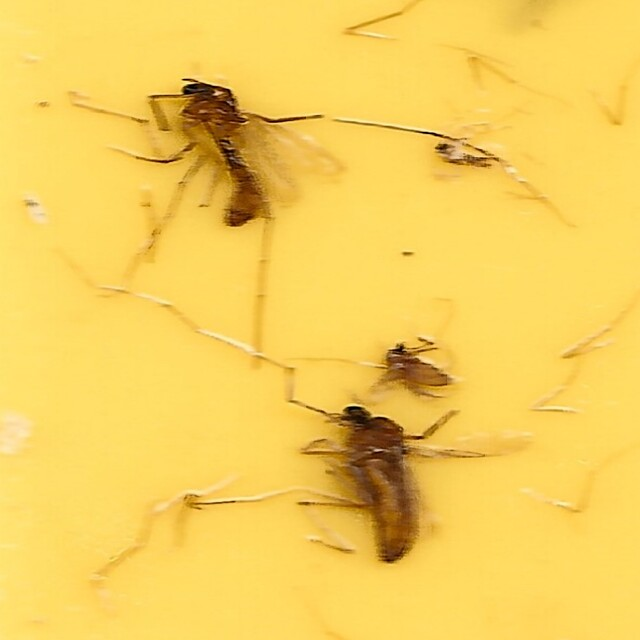Nematocera: (293, 398, 532, 565), (108, 75, 331, 236), (367, 339, 457, 401)
